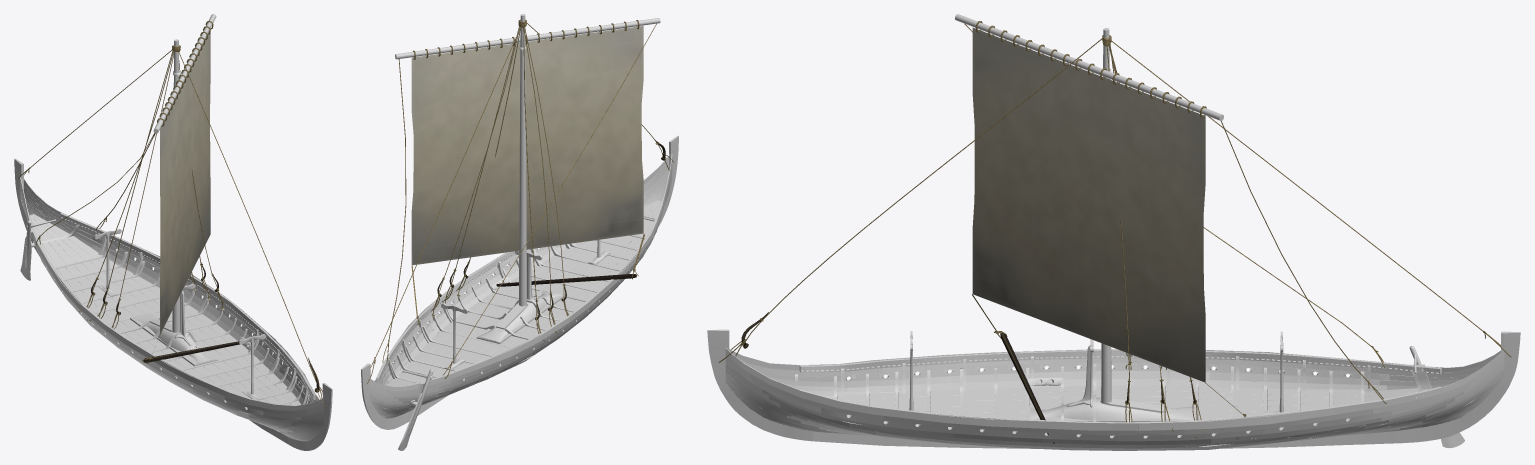
The model's file is ShipRemesh_V2Start.fbx.
3 views of the same model, side by side, from view 1: azimuth 30°, elevation 25°; view 2: azimuth 150°, elevation 25°; view 3: azimuth 270°, elevation 25° (orthographic). The views are drawn at different scales.
Visible parts, largest first — view 1: Sail, RiggingNew, Strake.013.003, Strake.015.003, Mastfish, Gunnel.003, Strake.014.003, Mast.001, Stem.001, Strake.015.004, Strake.012.004, TopRopesRought (+19 smaller); view 2: Sail, RiggingNew, Mast, Mast.001, Strake.013.003, Strake.015.004, Mastfish, Gunnel.003, Stem.002, Strake.015.003, Strake.011.005, Cube (+13 smaller); view 3: Sail, Strake.013.003, RiggingNew, Strake.015.003, Keel, Strake.014.003, Strake.011.005, Strake.015.004, Strake.012.005, Mast.001, Mastfish, Strake.014.004 (+18 smaller).
Boxes of the visible parts, <box> form: Sail: <box>152,31,210,353</box>; RiggingNew: <box>18,48,325,407</box>; Strake.013.003: <box>67,283,311,415</box>; Strake.015.003: <box>104,295,310,404</box>; Mastfish: <box>131,312,215,364</box>; Gunnel.003: <box>71,275,259,352</box>; Strake.014.003: <box>89,290,301,399</box>; Mast.001: <box>153,14,216,133</box>; Stem.001: <box>306,383,332,450</box>; Strake.015.004: <box>37,228,223,329</box>; Strake.012.004: <box>85,291,250,368</box>; TopRopesRought: <box>157,20,213,126</box>; Sail: <box>411,26,644,316</box>; RiggingNew: <box>367,23,673,383</box>; Mast: <box>519,14,526,306</box>; Mast.001: <box>395,18,660,59</box>; Strake.013.003: <box>413,223,658,363</box>; Strake.015.004: <box>384,287,569,380</box>; Mastfish: <box>477,290,562,342</box>; Gunnel.003: <box>419,259,605,342</box>; Stem.002: <box>361,363,390,429</box>; Strake.015.003: <box>454,221,656,322</box>; Strake.011.005: <box>388,310,560,395</box>; Cube: <box>496,274,636,286</box>; Sail: <box>972,27,1245,416</box>; Strake.013.003: <box>819,363,1262,441</box>; RiggingNew: <box>719,23,1511,438</box>; Strake.015.003: <box>839,349,1138,430</box>; Keel: <box>812,430,1402,448</box>; Strake.014.003: <box>882,358,1184,435</box>; Strake.011.005: <box>1134,379,1388,448</box>; Strake.015.004: <box>1138,350,1384,430</box>; Strake.012.005: <box>1209,372,1381,443</box>; Mast.001: <box>955,14,1223,120</box>; Mastfish: <box>1030,397,1194,420</box>; Strake.014.004: <box>1184,359,1372,434</box>.
Bounding box in the file's own units: 714 × 1386 × 2388.
